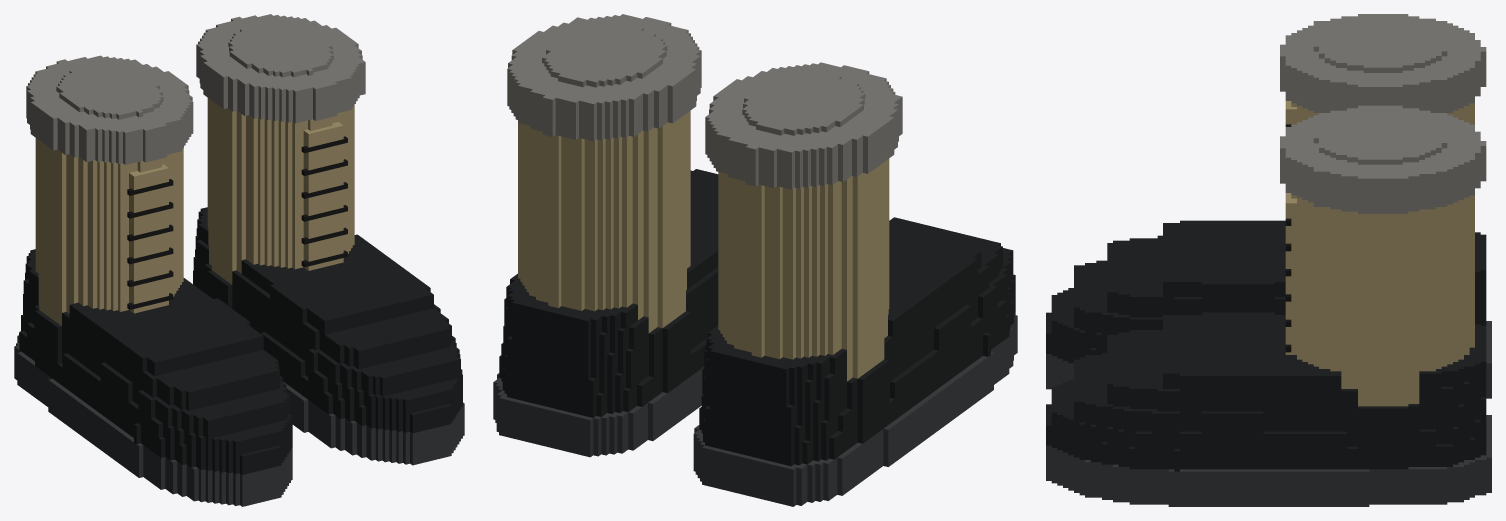
The model's file is boots_winter.glb.
The picture shows the model from 3 angles, left to right: view 1: azimuth 30°, elevation 25°; view 2: azimuth 150°, elevation 25°; view 3: azimuth 270°, elevation 25°; orthographic projection. The views are drawn at different scales.
Visible parts, largest first — view 1: boots_winter:compound; view 2: boots_winter:compound; view 3: boots_winter:compound.
Part boxes in pixels (x1,y1,x2,y2): boots_winter:compound: (14,14,464,506); boots_winter:compound: (493,14,1017,506); boots_winter:compound: (1046,14,1491,506).
Bounding box in the file's own units: 0.28 × 0.264 × 0.32.
